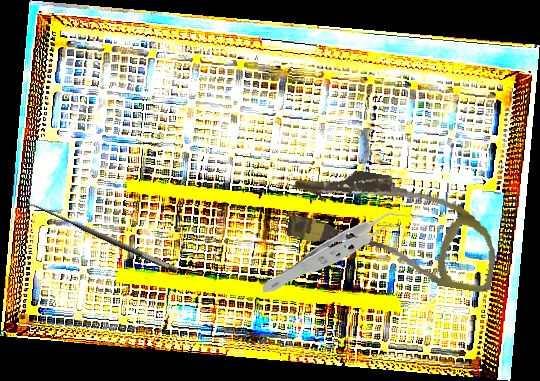Cannula: (282, 161, 506, 294)
Hook Surgical: (23, 197, 179, 286)
Tissue Forceps: (262, 205, 415, 302)
